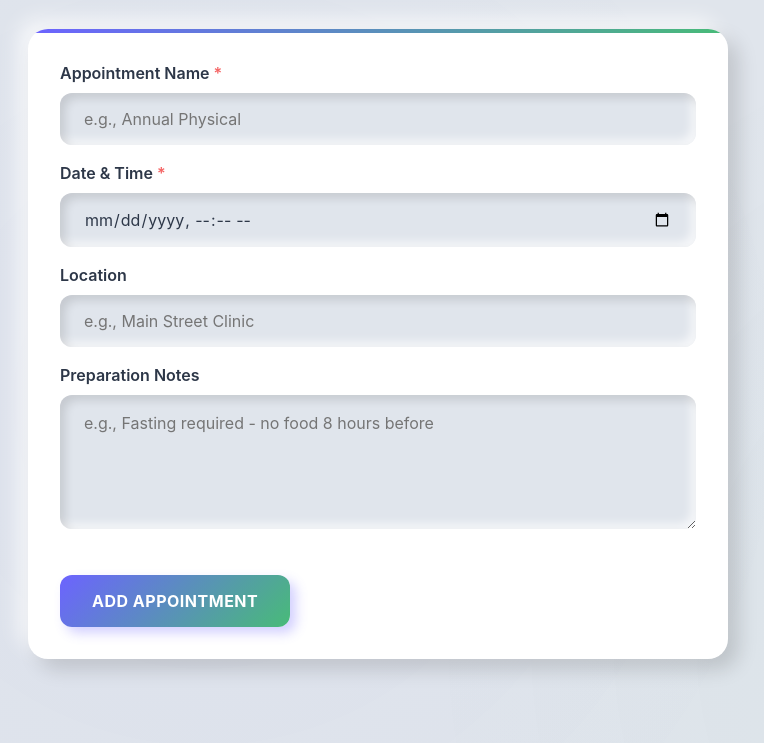
AppointmentForm › should display validation error for past datetime
In the field labelled "Appointment Name *": (378, 119) [60,93,696,145], type "Test Appointment"
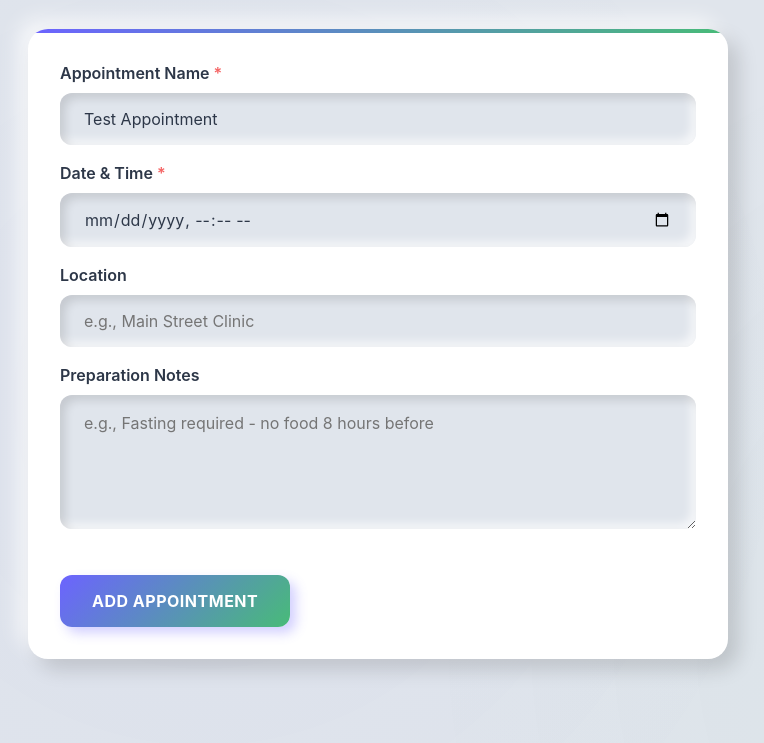
In the field labelled "Date & Time *": (378, 220) [60,193,696,247], type "2020-01-01T10:00"
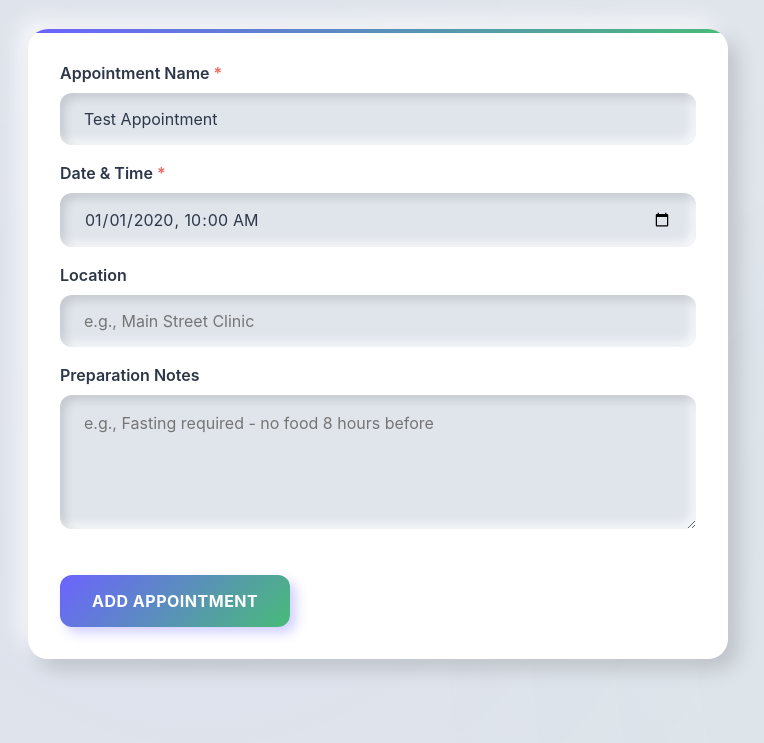
Click the button "Add Appointment": click(175, 601) [60,575,290,627]
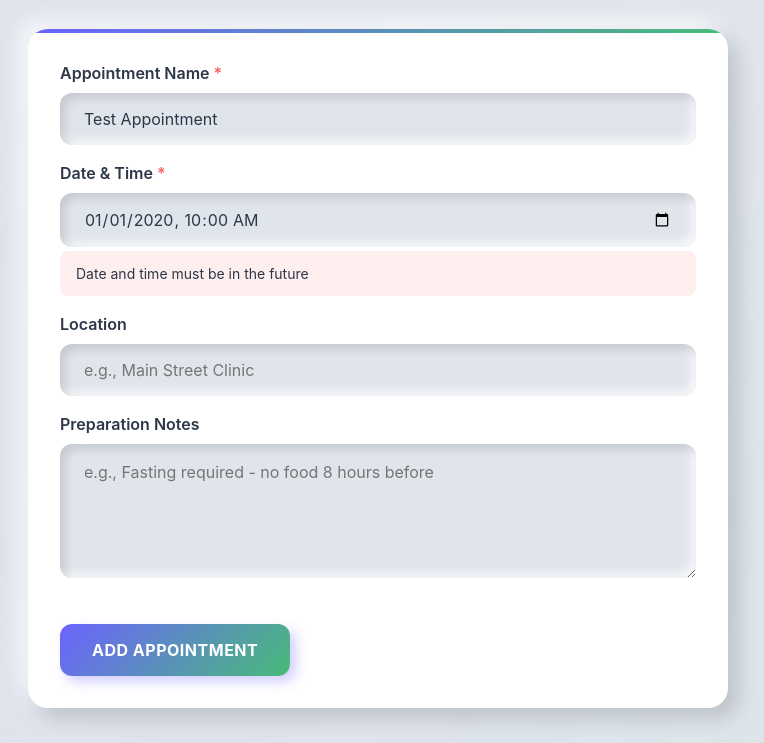
Expected: the text "Date and time must be in the future" is shown, [60,251,696,296]
